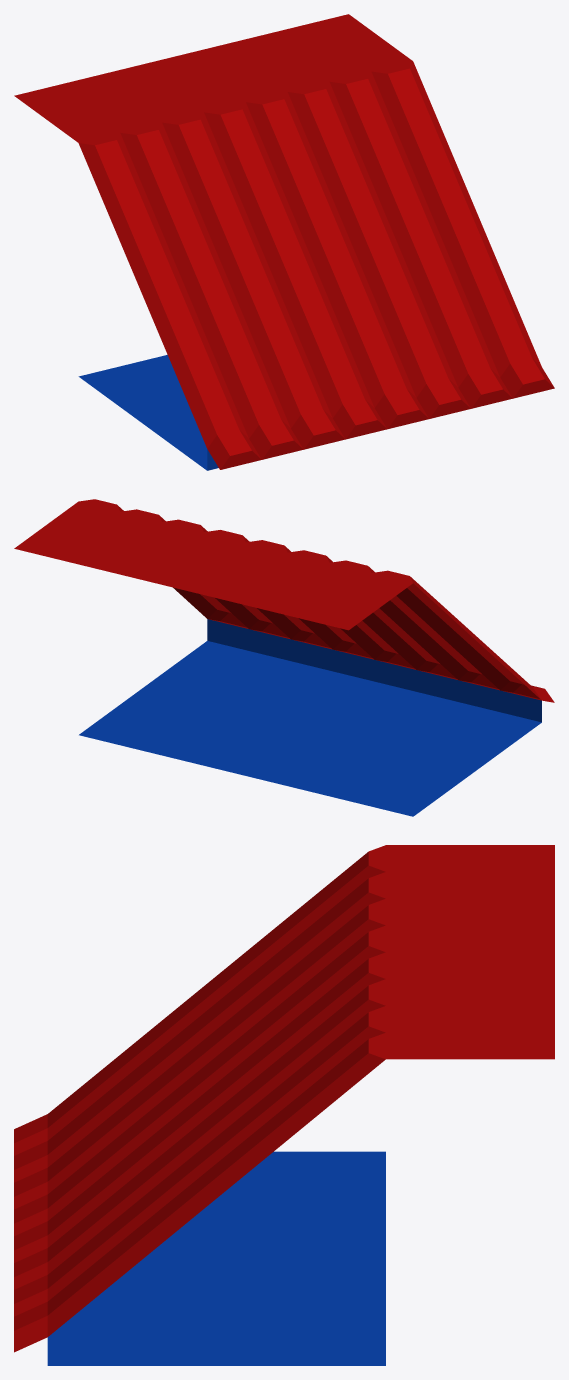
Rendered from Roof3M.fbx.
3 views of the same model, one above another, from view 1: azimuth 30°, elevation 25°; view 2: azimuth 150°, elevation 25°; view 3: azimuth 270°, elevation 25° (orthographic). The views are drawn at different scales.
Parts seen in each view (by area): view 1: Roof3M; view 2: Roof3M; view 3: Roof3M.
Boxes of the visible parts, x1=… form: Roof3M: x1=14, y1=14, x2=554, y2=470; Roof3M: x1=14, y1=499, x2=554, y2=816; Roof3M: x1=14, y1=845, x2=554, y2=1365.
Size of the model in its own units: 300 by 200 by 320.
